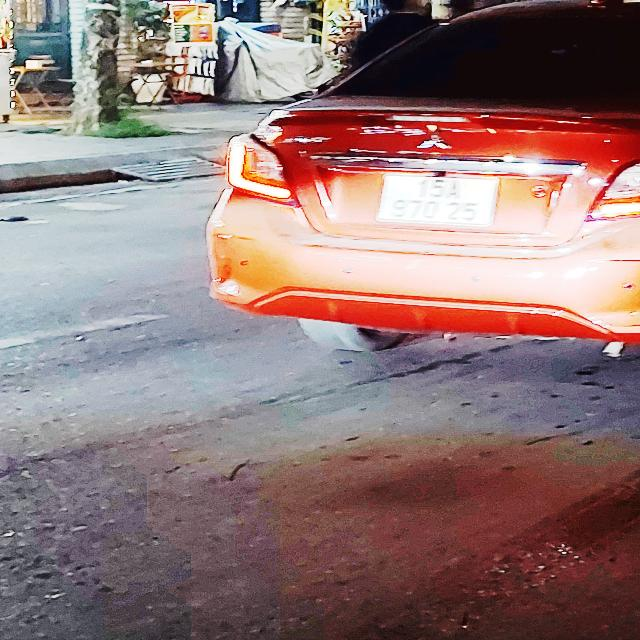license_plate: (374, 175, 502, 228)
